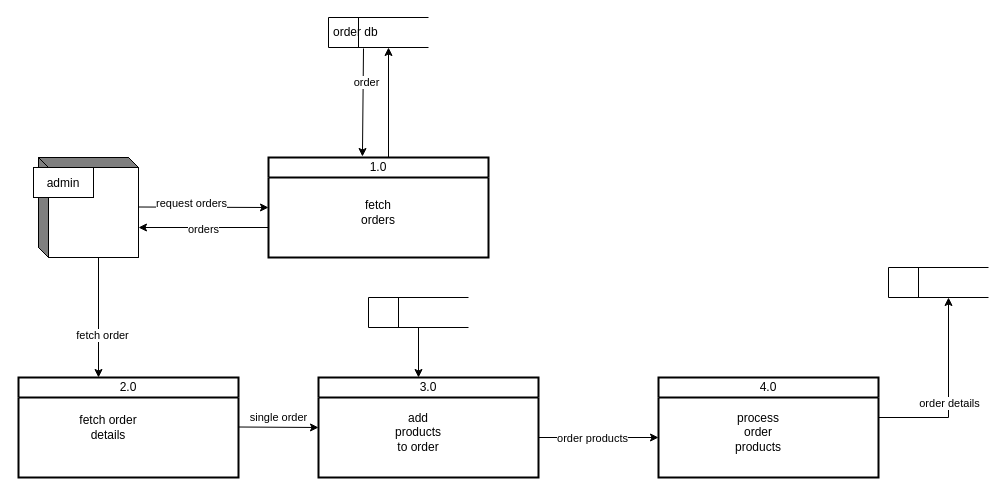
Some shapes in this 1006 by 496 pixel diagram are drawn without their labels. Each missing label, with the box of its shape:
orderDetails: (888, 266, 988, 298)
products db: (368, 296, 468, 328)
